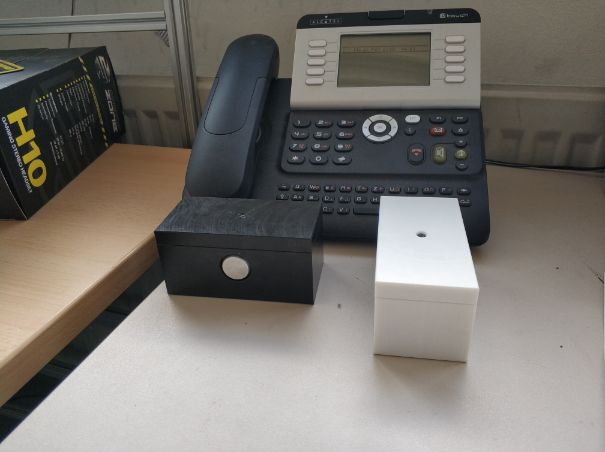black+black+silver: (152, 194, 330, 309)
